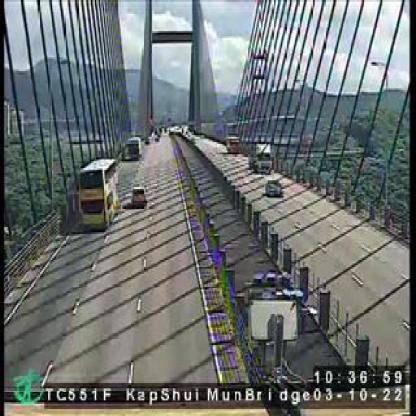Bus: (79, 158, 116, 229)
Car: (264, 180, 281, 198), (131, 187, 143, 206)
Truck: (248, 142, 273, 172), (225, 135, 238, 153)
